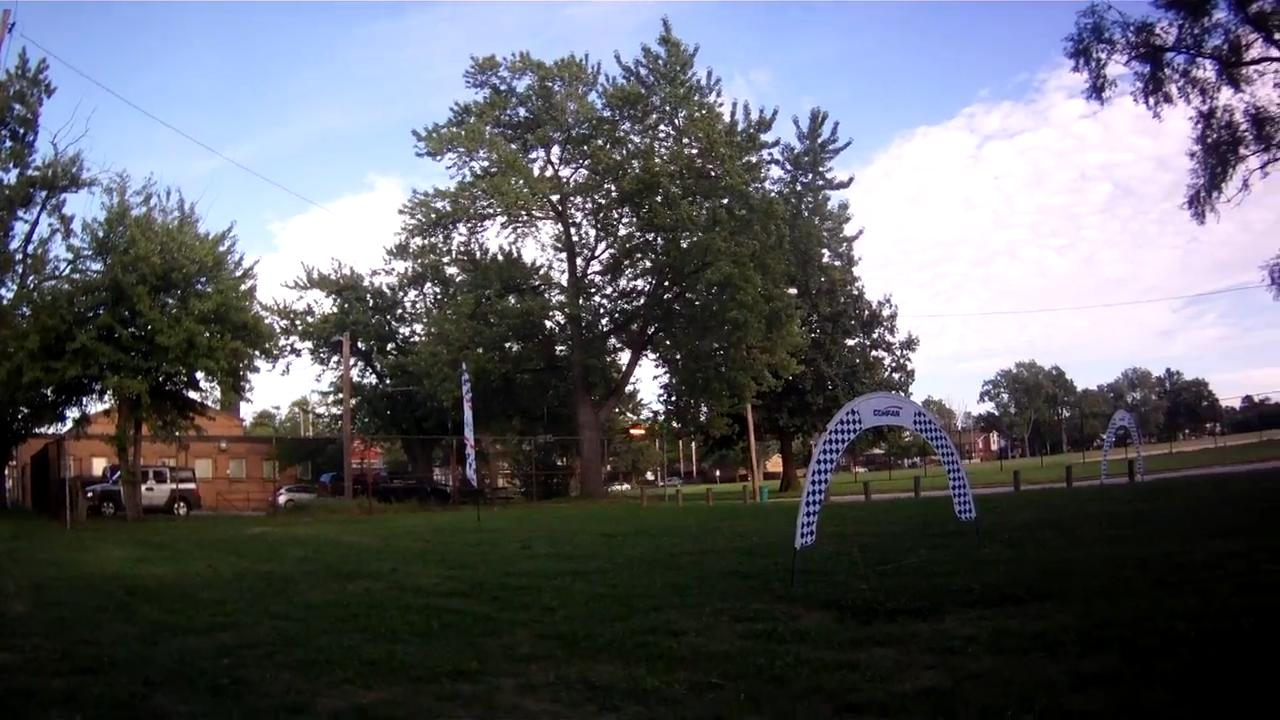gate: (793, 390, 978, 561)
